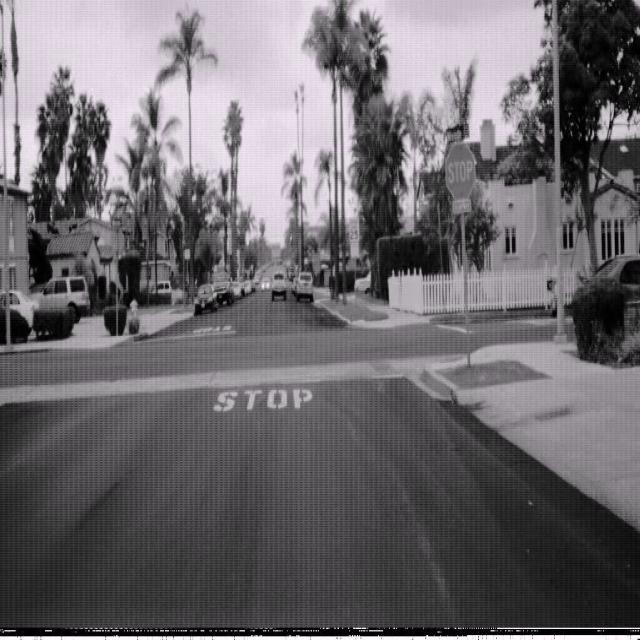stop_sign: (444, 140, 476, 200)
